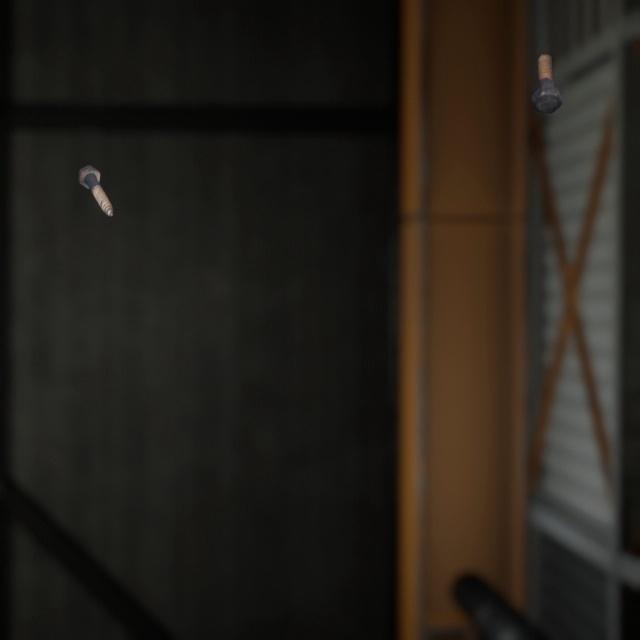bolt: (73, 146, 118, 206), (527, 39, 566, 106)
